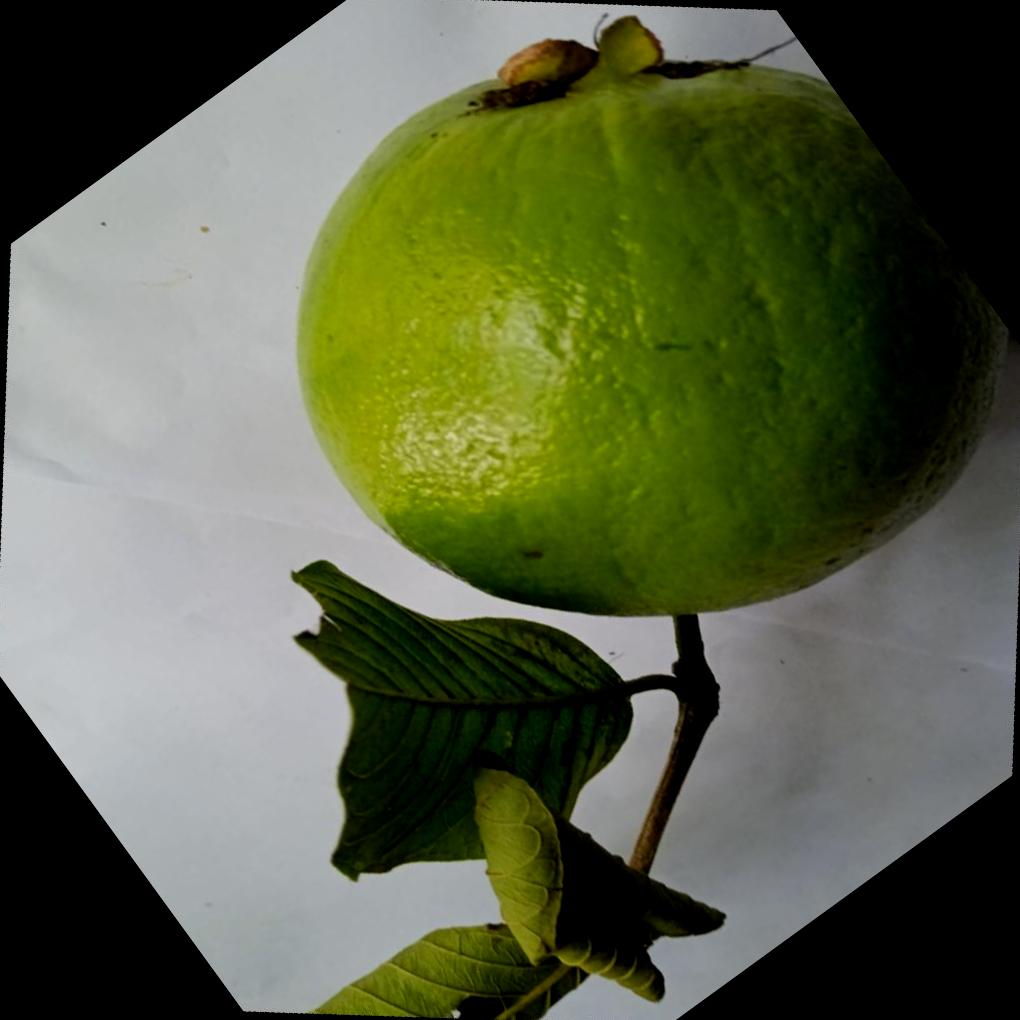FreshGuava: (295, 15, 1011, 618)
